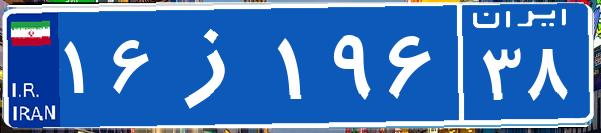1: (273, 28, 330, 110), (57, 26, 110, 107)
3: (475, 38, 525, 113)
6: (385, 28, 445, 110), (110, 28, 158, 105)
8: (525, 38, 570, 115)
9: (330, 28, 385, 110)
ز: (158, 15, 273, 115)
